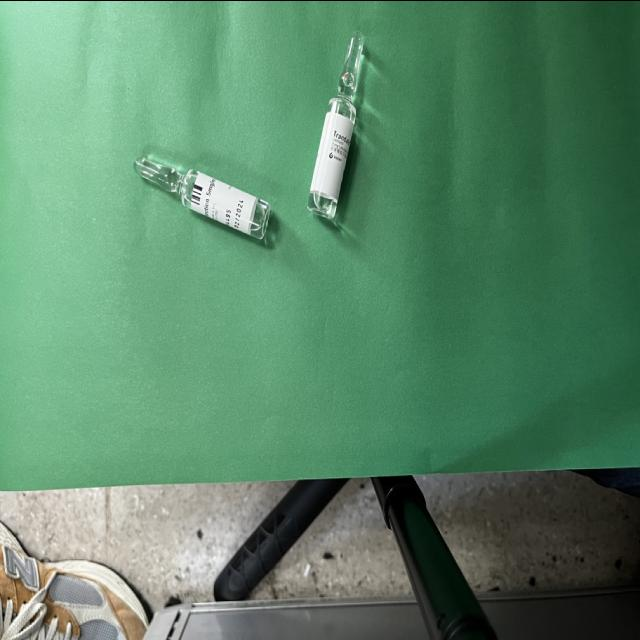Ampoules: (134, 157, 271, 239), (308, 31, 364, 219)
